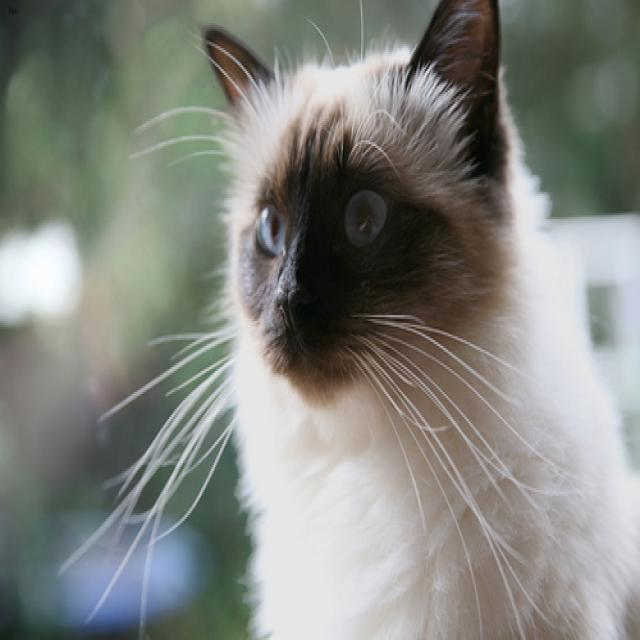Birman: (168, 0, 527, 477)
